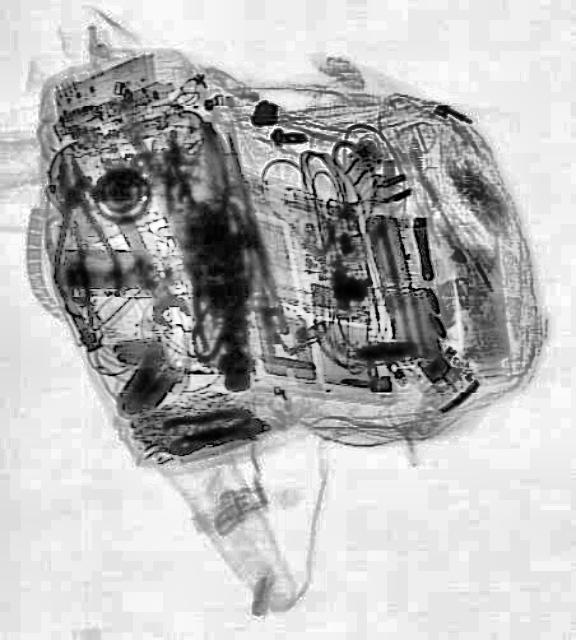Pliers: (35, 156, 124, 304)
Wrench: (104, 206, 191, 332)
